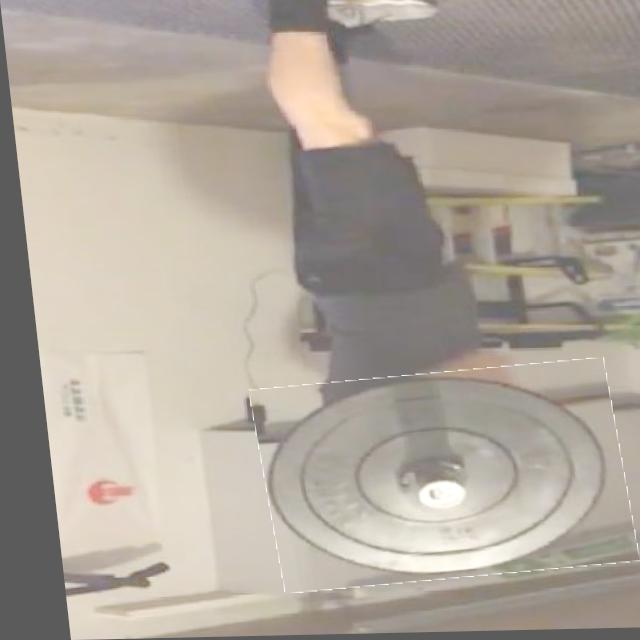barbell: (243, 367, 626, 589)
